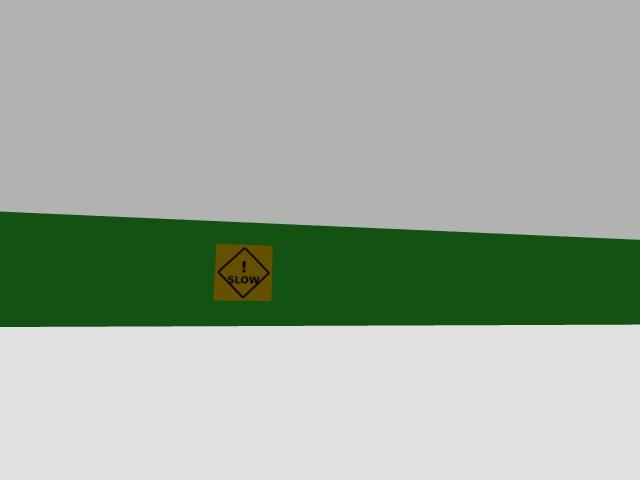slow: (213, 246, 272, 300)
